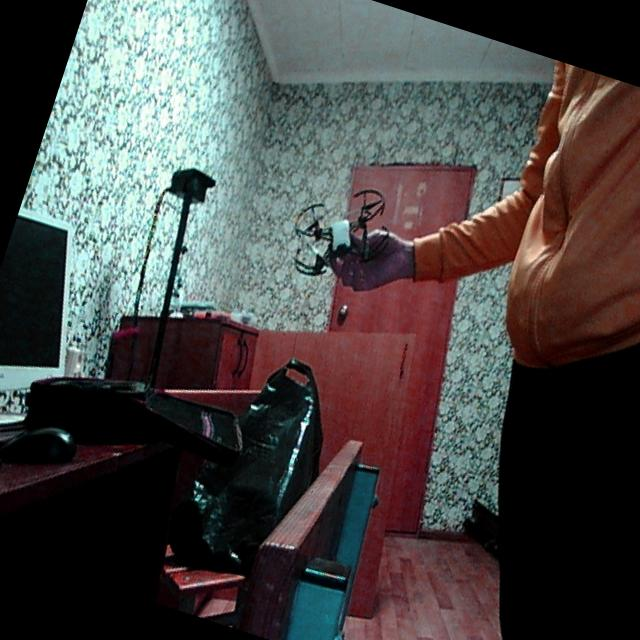drone: (275, 167, 404, 306)
